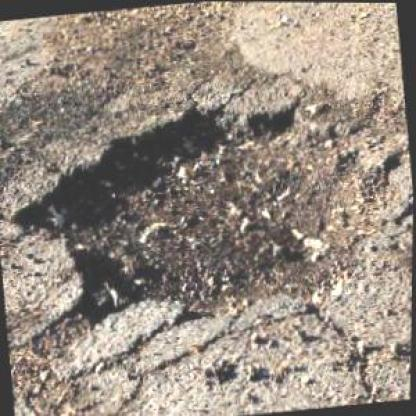pothole: (0, 80, 413, 340)
